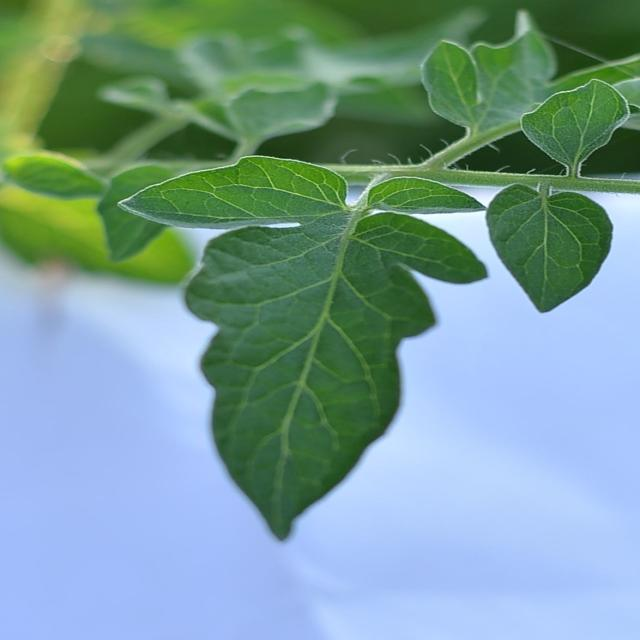healthy: (104, 154, 489, 546), (414, 37, 640, 180), (482, 182, 629, 317)
